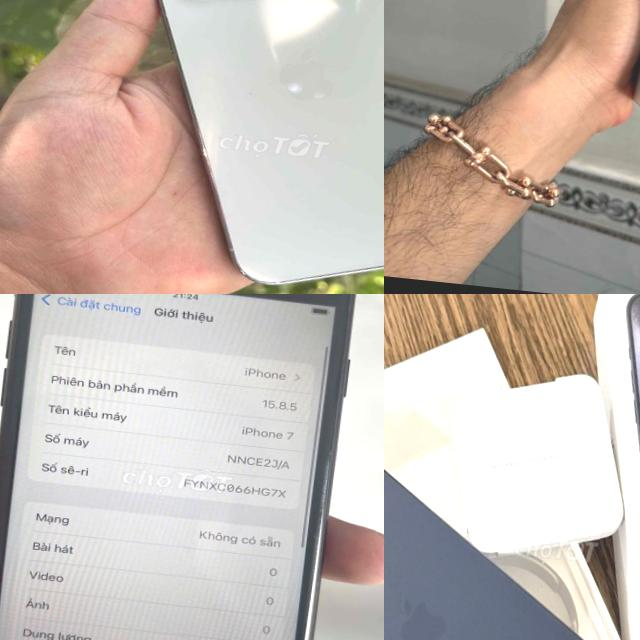scratch: (311, 436, 336, 542)
